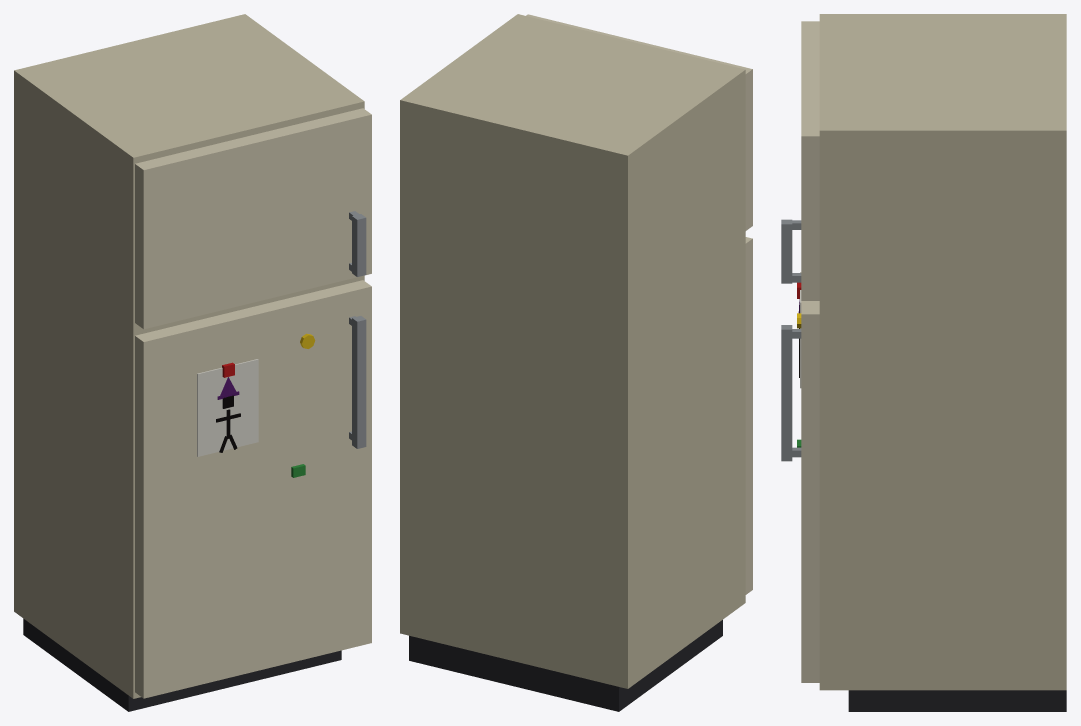
The model's file is frigider.glb.
The picture shows the model from 3 angles, left to right: view 1: azimuth 30°, elevation 25°; view 2: azimuth 150°, elevation 25°; view 3: azimuth 270°, elevation 25°; orthographic projection. The views are drawn at different scales.
Visible parts, largest first — view 1: Corp, UsaFrigider, UsaCongelator; view 2: Corp, UsaFrigider, UsaCongelator; view 3: Corp, UsaFrigider, UsaCongelator.
Boxes of the visible parts, x1,y1,x2,y2 form: Corp: (14,14,364,711); UsaFrigider: (135,280,371,698); UsaCongelator: (135,108,371,329); Corp: (400,14,745,711); UsaFrigider: (745,237,752,594); UsaCongelator: (526,14,752,230); Corp: (819,14,1066,711); UsaFrigider: (781,272,819,682); UsaCongelator: (781,21,819,300).
Bounding box in the file's own units: 0.76 × 1.78 × 0.785.
